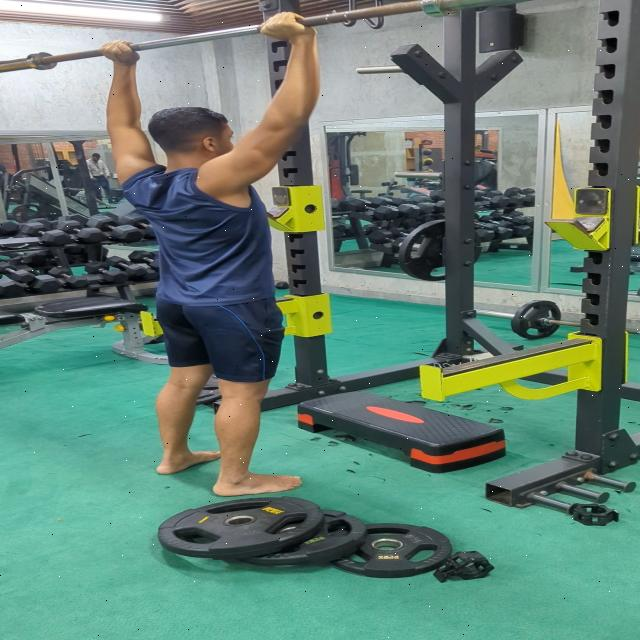Normal_OverheadPress: (95, 10, 341, 502)
